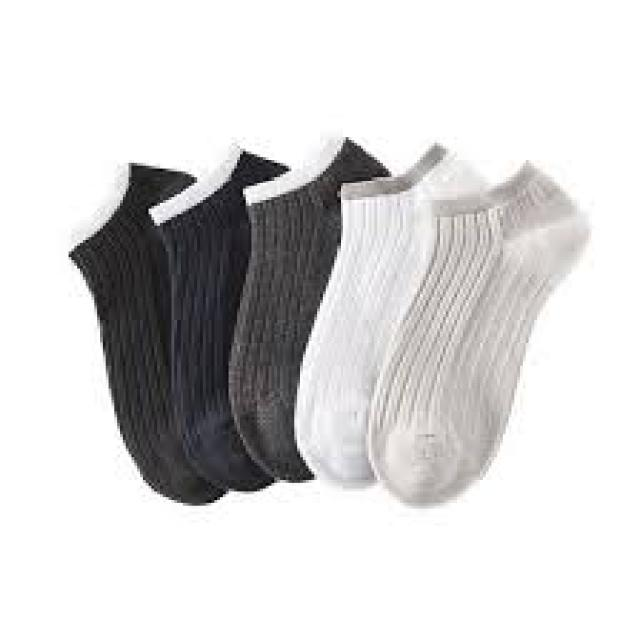sock: (363, 157, 588, 506), (226, 134, 391, 483), (146, 143, 288, 491)
